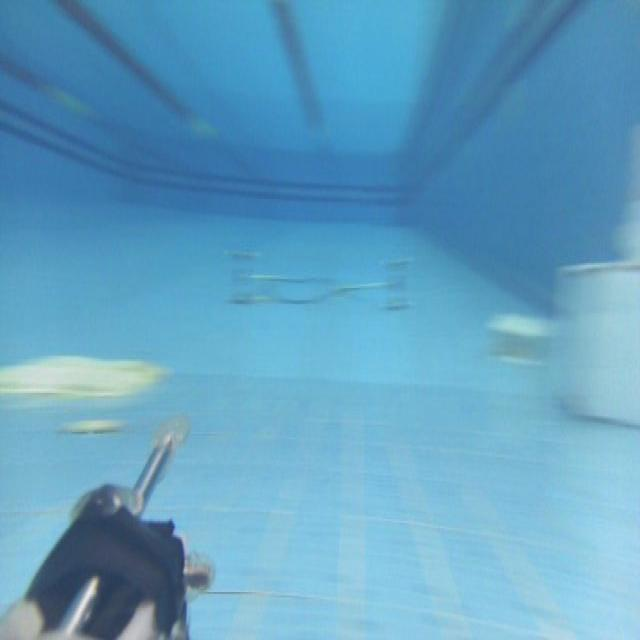Cuboid: (551, 252, 638, 428)
